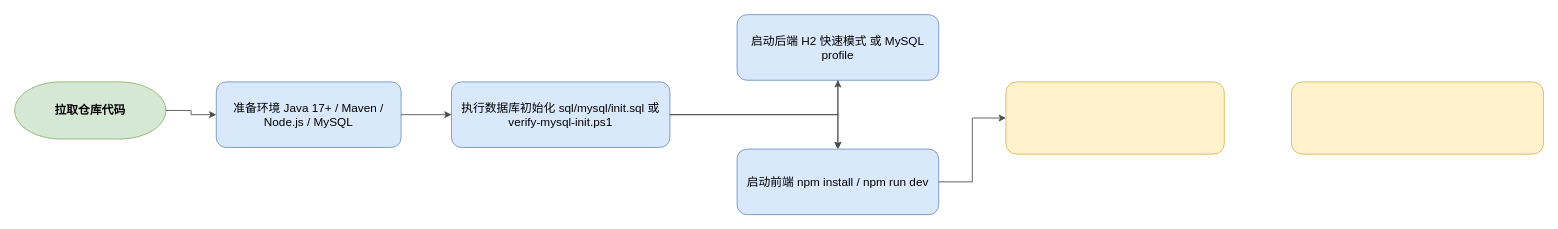
Some shapes in this 1558 by 229 pixel diagram are drawn without their labels. Each missing label, with the centre of its shape:
主流程验收 题库 → 组卷 → 发布 → 考试 → 阅卷 → 成绩: pixel 1417 117
健康检查与登录验证 /api/system/runtime/health + 账号登录: pixel 1114 117
